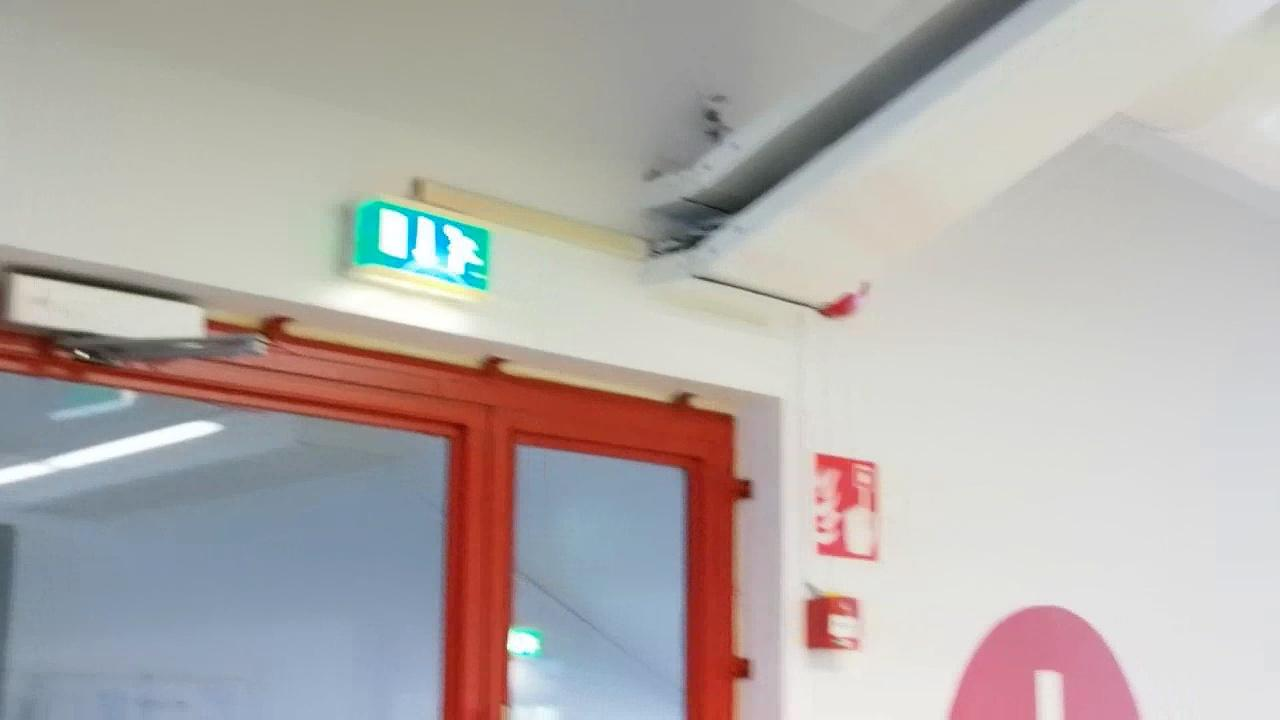exit: (351, 203, 492, 285)
